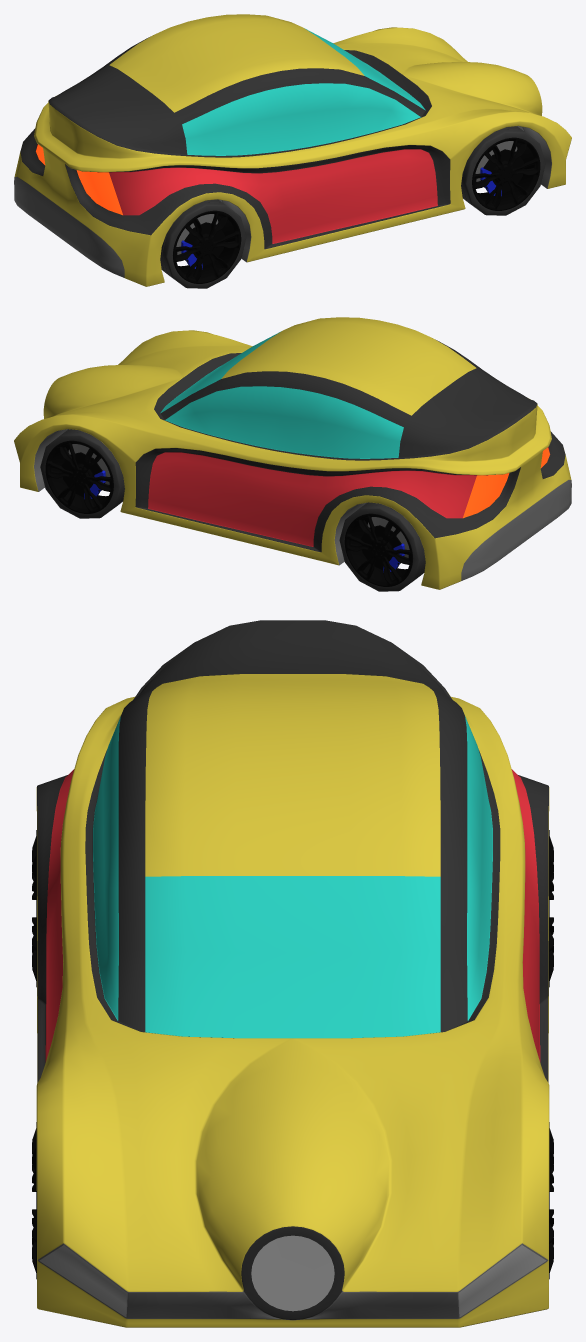
File: future_car_6_FINAL.fbx
The picture shows the model from 3 angles, top to bottom: view 1: azimuth 30°, elevation 25°; view 2: azimuth 150°, elevation 25°; view 3: azimuth 270°, elevation 25°; orthographic projection. The views are drawn at different scales.
Visible parts, largest first — view 1: Car, Car_wheel.001, Car_wheel; view 2: Car, Car_wheel.002, Car_wheel.003; view 3: Car.
Part boxes in pixels (x1,y1,x2,y2): Car: (14, 14, 571, 286); Car_wheel.001: (160, 199, 246, 288); Car_wheel: (461, 126, 545, 215); Car: (14, 317, 571, 589); Car_wheel.002: (339, 502, 425, 591); Car_wheel.003: (40, 429, 124, 518); Car: (36, 620, 549, 1327).
Size of the model in its own units: 575 by 204 by 273.
